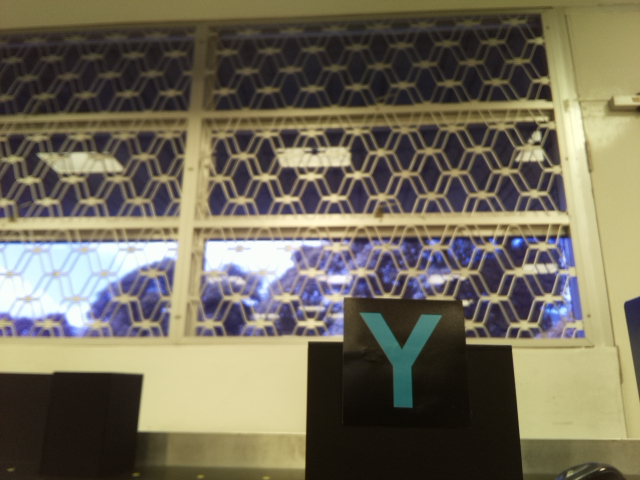y: (358, 307, 454, 415)
